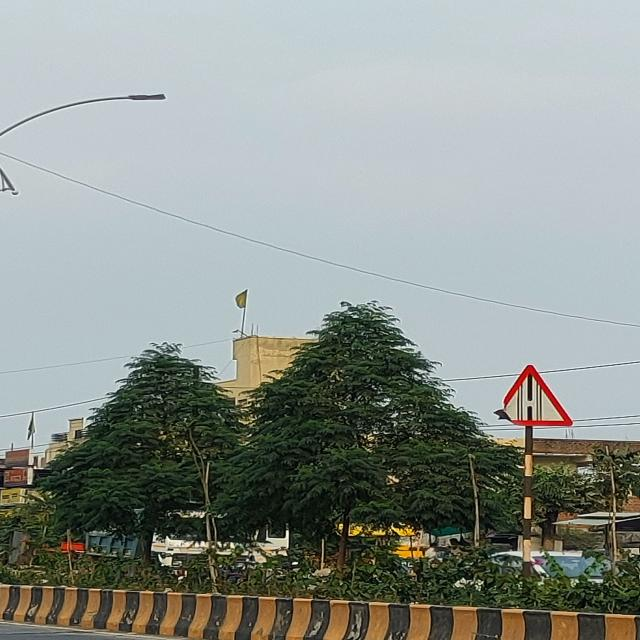GAP_IN_MEDIAN: (498, 364, 571, 425)
